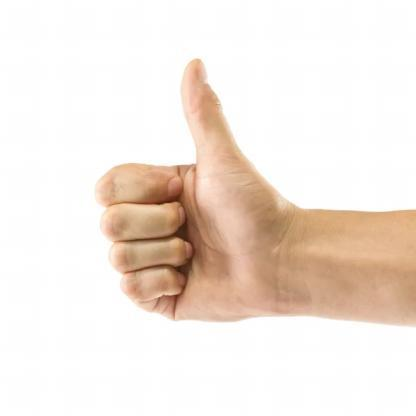thumb_up: (92, 58, 298, 324)
